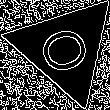O_E: (33, 20, 97, 77)
